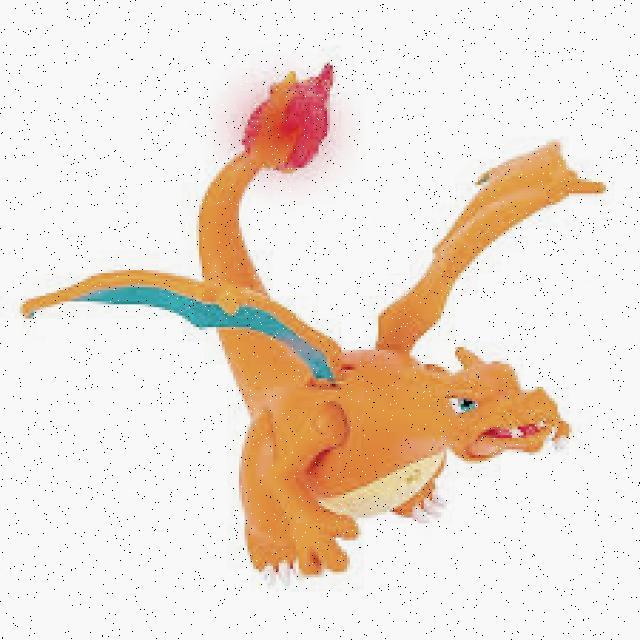charizard: (20, 60, 622, 584)
